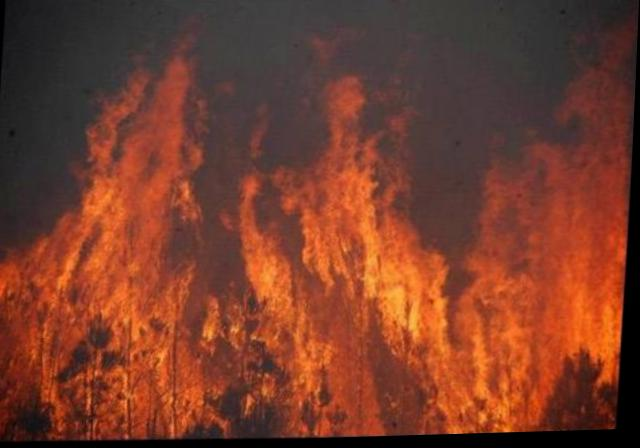fire: (0, 22, 638, 447)
